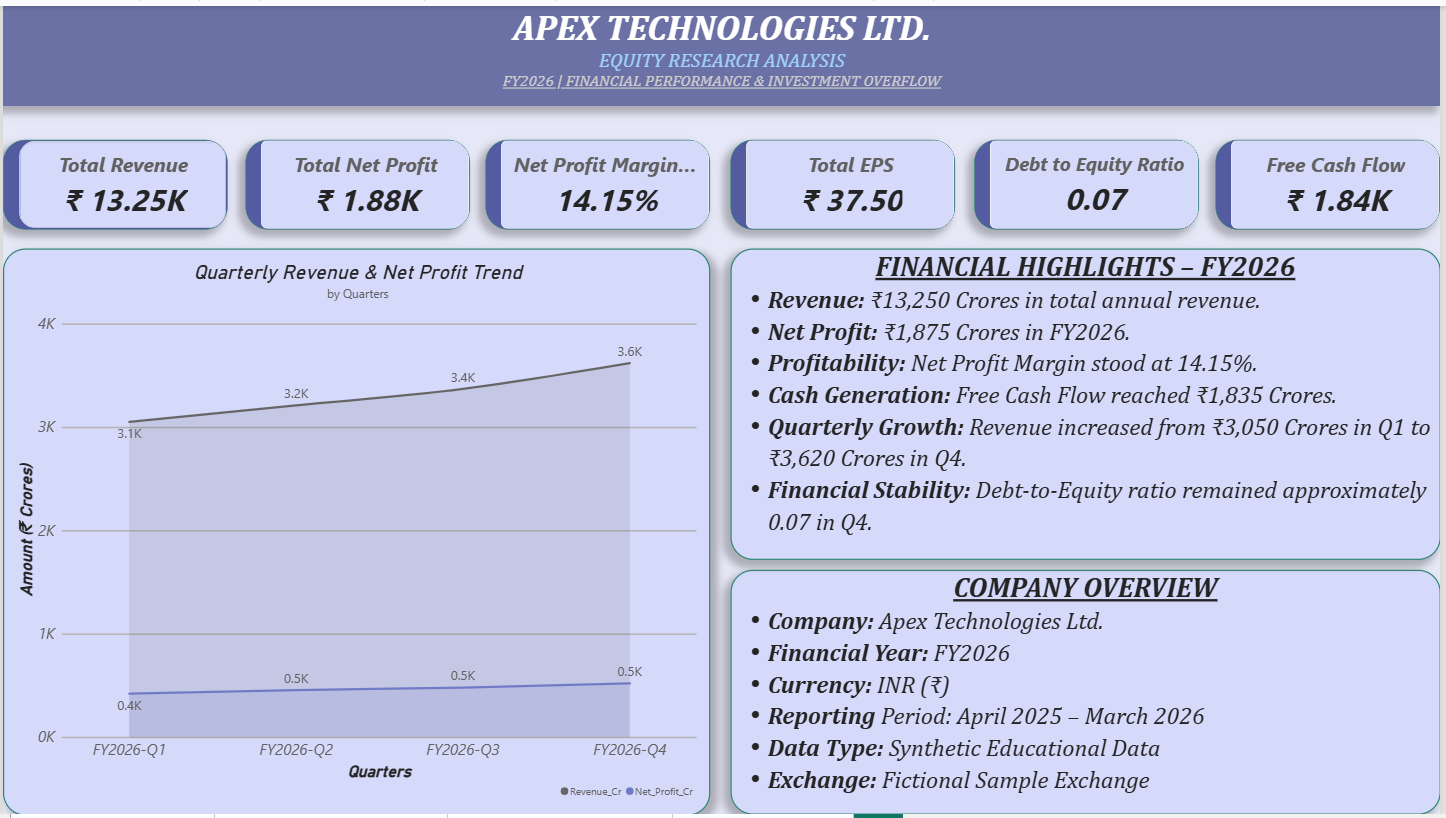

The dashboard page shown, as its layout file describes it:
{"tool":"powerbi","page":{"name":"EXECUTIVE SUMMARY","canvas":[1920,1080],"ordinal":0},"visuals":[{"type":"textbox","box":[0,0,1920.4,133.8],"z":0},{"type":"cardVisual","fields":{"Data":["apex_equity_research quarterly_financials.Total Revenue"]},"box":[0,179.1,300,120],"z":1000},{"type":"cardVisual","fields":{"Data":["apex_equity_research quarterly_financials.Total Net Profit"]},"box":[323.2,179.1,300,120],"z":2000},{"type":"cardVisual","fields":{"Data":["apex_equity_research quarterly_financials.Net Profit Margin %"]},"box":[644.3,179.1,300,120],"z":3000},{"type":"cardVisual","fields":{"Data":["apex_equity_research quarterly_financials.Total EPS"]},"box":[971.5,179.1,300,120],"z":4000},{"type":"cardVisual","fields":{"Data":["apex_equity_research quarterly_financials.Debt to Equity Ratio"]},"box":[1296.7,179.1,300,120],"z":5000},{"type":"cardVisual","fields":{"Data":["apex_equity_research cash_flow.Free Cash Flow"]},"box":[1619.9,179.1,300,120],"z":6000},{"type":"textbox","box":[971.5,753.3,948.9,327.3],"z":7000},{"type":"lineChart","title":"Quarterly Revenue & Net Profit Trend","fields":{"Category":["apex_equity_research quarterly_financials.Quarters"],"Y":["Sum(apex_equity_research quarterly_financials.Revenue_Cr)","Sum(apex_equity_research quarterly_financials.Net_Profit_Cr)"]},"box":[0,323.2,944.8,757.5],"z":8000},{"type":"textbox","box":[971.5,323.2,948.9,415.8],"z":9000}]}

Visuals, with their boxes in screenshot pixels (x1, y1, x2, y2), scaled from the page's 1920x1080 canvas onto the 1446x818 screenshot:
textbox: {"left": 0, "top": 0, "right": 1445, "bottom": 101}
cardVisual - apex_equity_research quarterly_financials.Total Revenue: {"left": 0, "top": 136, "right": 226, "bottom": 227}
cardVisual - apex_equity_research quarterly_financials.Total Net Profit: {"left": 243, "top": 136, "right": 469, "bottom": 227}
cardVisual - apex_equity_research quarterly_financials.Net Profit Margin %: {"left": 485, "top": 136, "right": 711, "bottom": 227}
cardVisual - apex_equity_research quarterly_financials.Total EPS: {"left": 732, "top": 136, "right": 958, "bottom": 227}
cardVisual - apex_equity_research quarterly_financials.Debt to Equity Ratio: {"left": 977, "top": 136, "right": 1203, "bottom": 227}
cardVisual - apex_equity_research cash_flow.Free Cash Flow: {"left": 1220, "top": 136, "right": 1445, "bottom": 227}
textbox: {"left": 732, "top": 571, "right": 1445, "bottom": 817}
"Quarterly Revenue & Net Profit Trend" lineChart: {"left": 0, "top": 245, "right": 712, "bottom": 817}
textbox: {"left": 732, "top": 245, "right": 1445, "bottom": 560}
